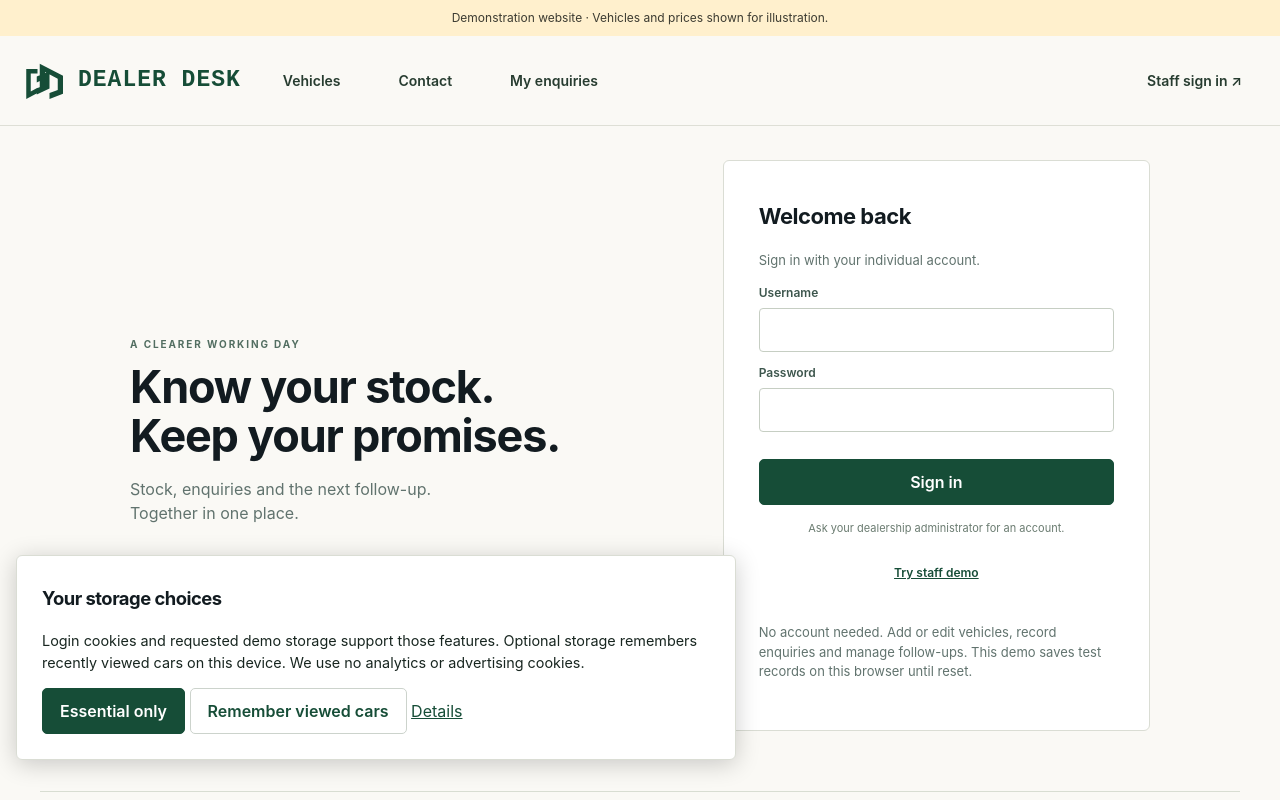
Scenario: sign in uses individual credentials and displays backend errors
This screenshot has width=1280, height=800.
Type "sales" into the field labelled "Username" at x=936, y=330, box [759,308,1114,352]
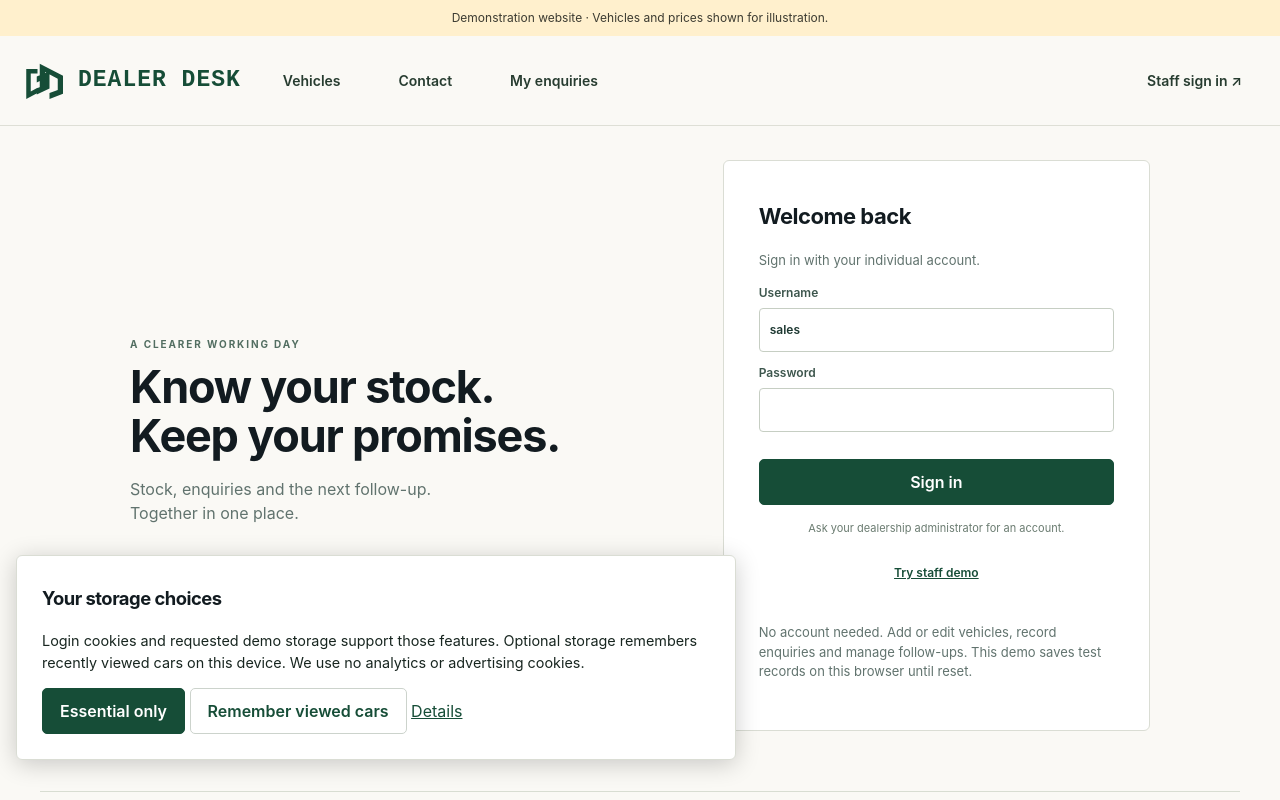
Type "incorrect" into the password field labelled "Password" at x=936, y=410, box [759,388,1114,432]
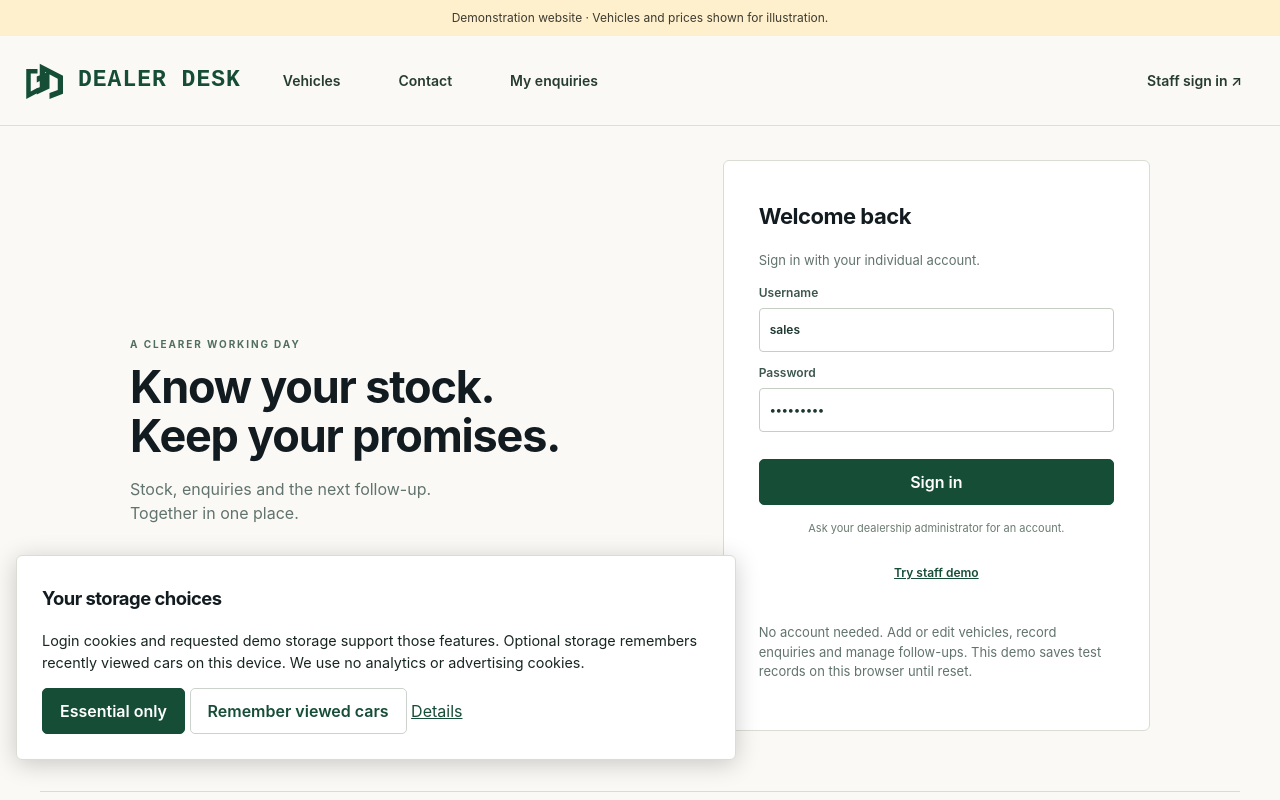
Click the button "Sign in" at x=936, y=482, box [759,458,1114,504]
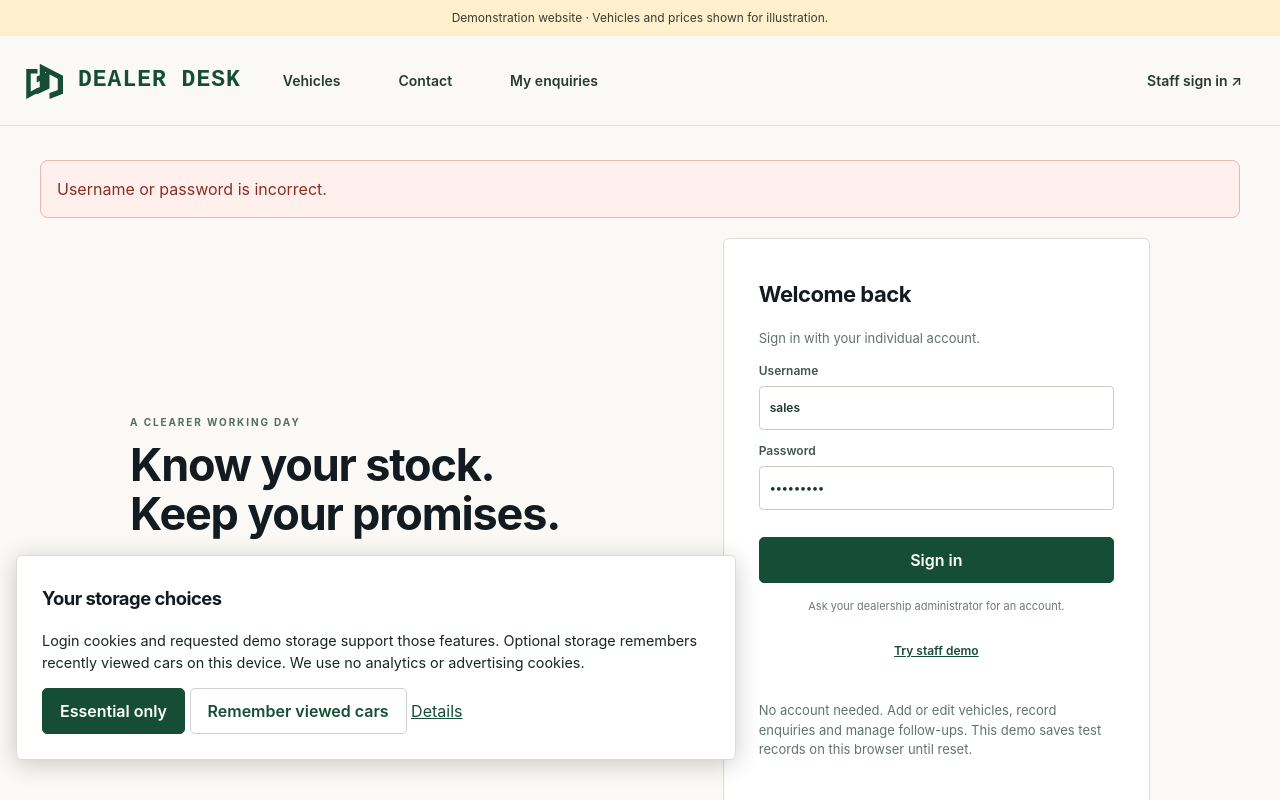
Now the message reads "Username or password is incorrect.", box [57,179,327,199]
